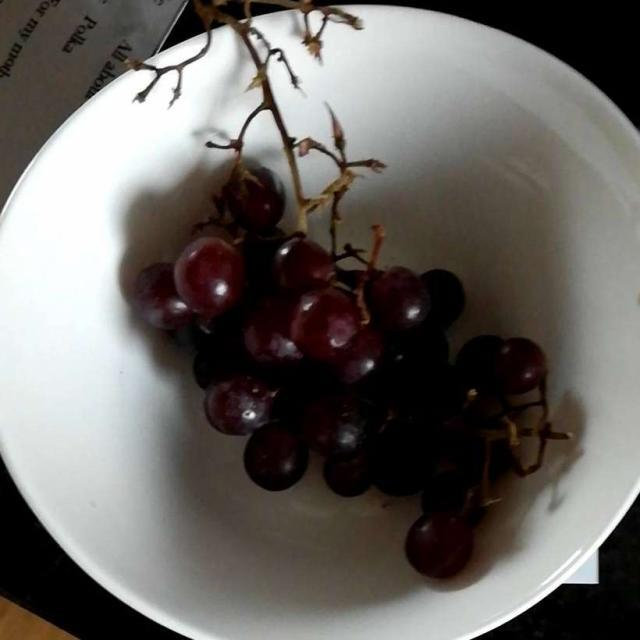grapes: (140, 166, 552, 576)
